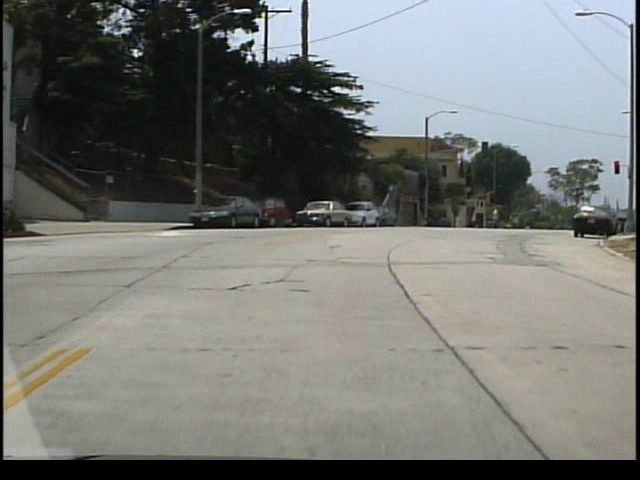person: (496, 206, 503, 228)
